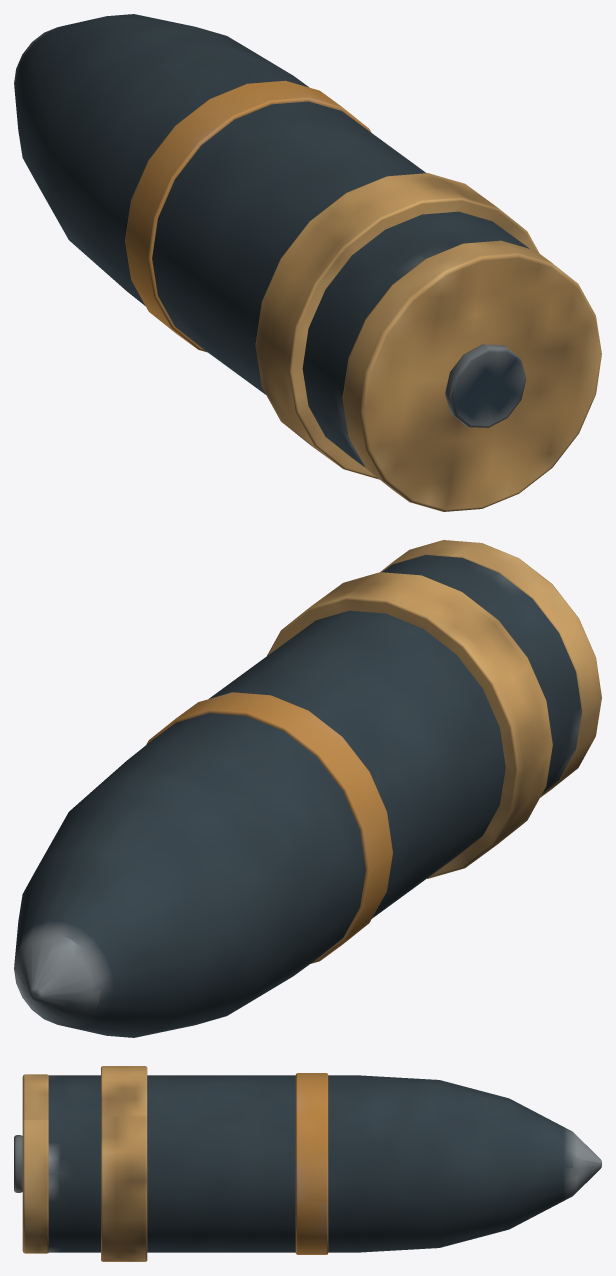
The model's file is artillery_shell.glb.
The picture shows the model from 3 angles, top to bottom: view 1: azimuth 30°, elevation 25°; view 2: azimuth 150°, elevation 25°; view 3: azimuth 270°, elevation 25°; orthographic projection. The views are drawn at different scales.
Visible parts, largest first — view 1: v4_artillery_shell__ogive_body, v4_artillery_shell__base_plate, v4_artillery_shell__driving_band, v4_artillery_shell__identity_band, v4_artillery_shell__base_mark; view 2: v4_artillery_shell__ogive_body, v4_artillery_shell__driving_band, v4_artillery_shell__identity_band, v4_artillery_shell__base_plate; view 3: v4_artillery_shell__ogive_body, v4_artillery_shell__driving_band, v4_artillery_shell__identity_band, v4_artillery_shell__base_plate, v4_artillery_shell__base_mark.
Part boxes in pixels (<box>): v4_artillery_shell__ogive_body: <box>14,14,529,467</box>; v4_artillery_shell__base_plate: <box>342,240,601,511</box>; v4_artillery_shell__driving_band: <box>255,173,539,479</box>; v4_artillery_shell__identity_band: <box>125,80,371,352</box>; v4_artillery_shell__base_mark: <box>445,344,526,427</box>; v4_artillery_shell__ogive_body: <box>14,555,581,1037</box>; v4_artillery_shell__driving_band: <box>267,572,552,878</box>; v4_artillery_shell__identity_band: <box>146,692,392,963</box>; v4_artillery_shell__base_plate: <box>380,540,601,797</box>; v4_artillery_shell__ogive_body: <box>48,1075,601,1252</box>; v4_artillery_shell__driving_band: <box>101,1066,147,1261</box>; v4_artillery_shell__identity_band: <box>295,1073,328,1254</box>; v4_artillery_shell__base_plate: <box>22,1074,48,1253</box>; v4_artillery_shell__base_mark: <box>14,1135,22,1192</box>.
Size of the model in its own units: 0.1122 by 0.1122 by 0.3346.
Materials: 1 (1 with a texture image).
